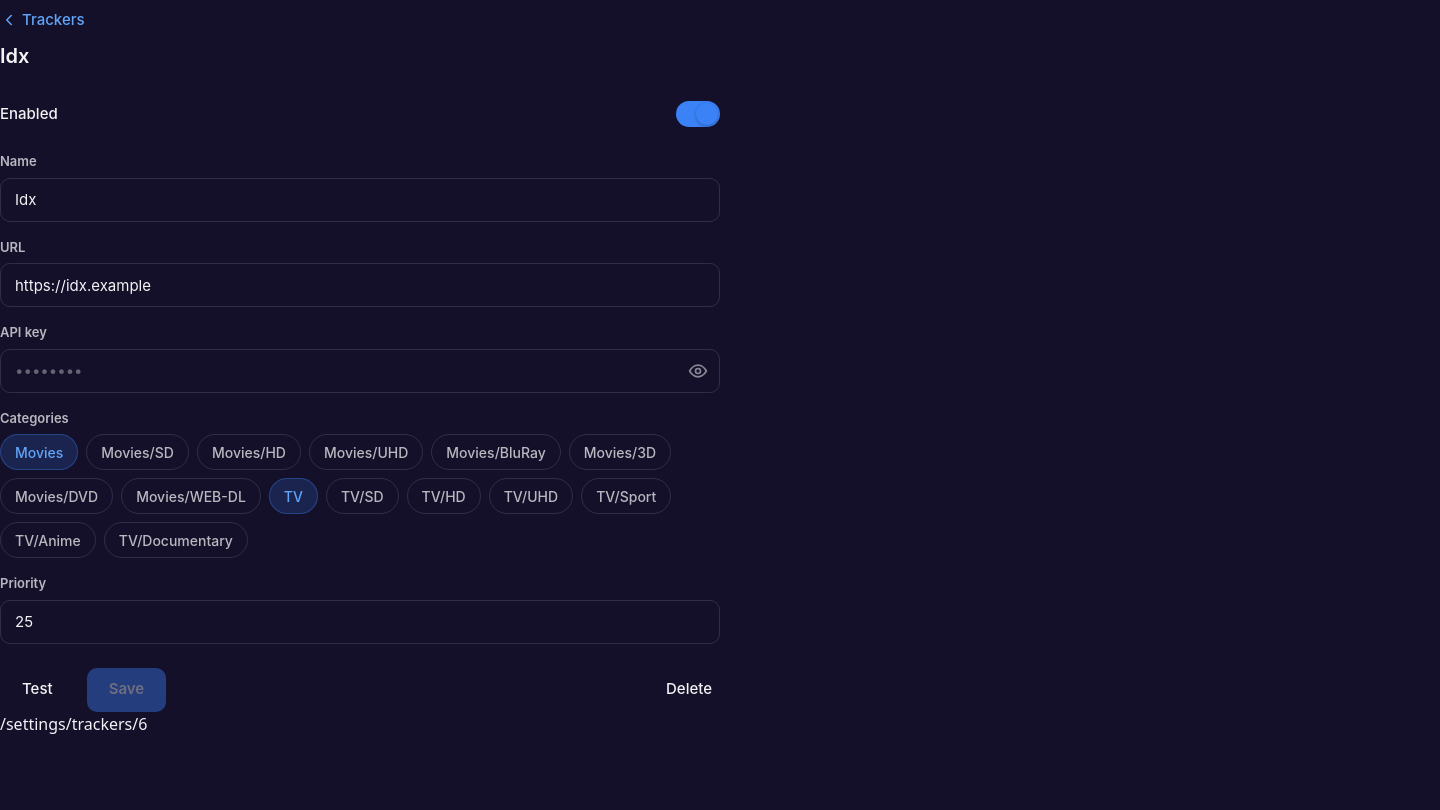
Test: Tracker form: edit and secrets › Delete asks "Delete <name>?" and returns to the list
Expected: the form with test id "tracker-form" is shown, [0,0,720,712]
Click the button "Delete": (689, 690) [658,668,720,712]
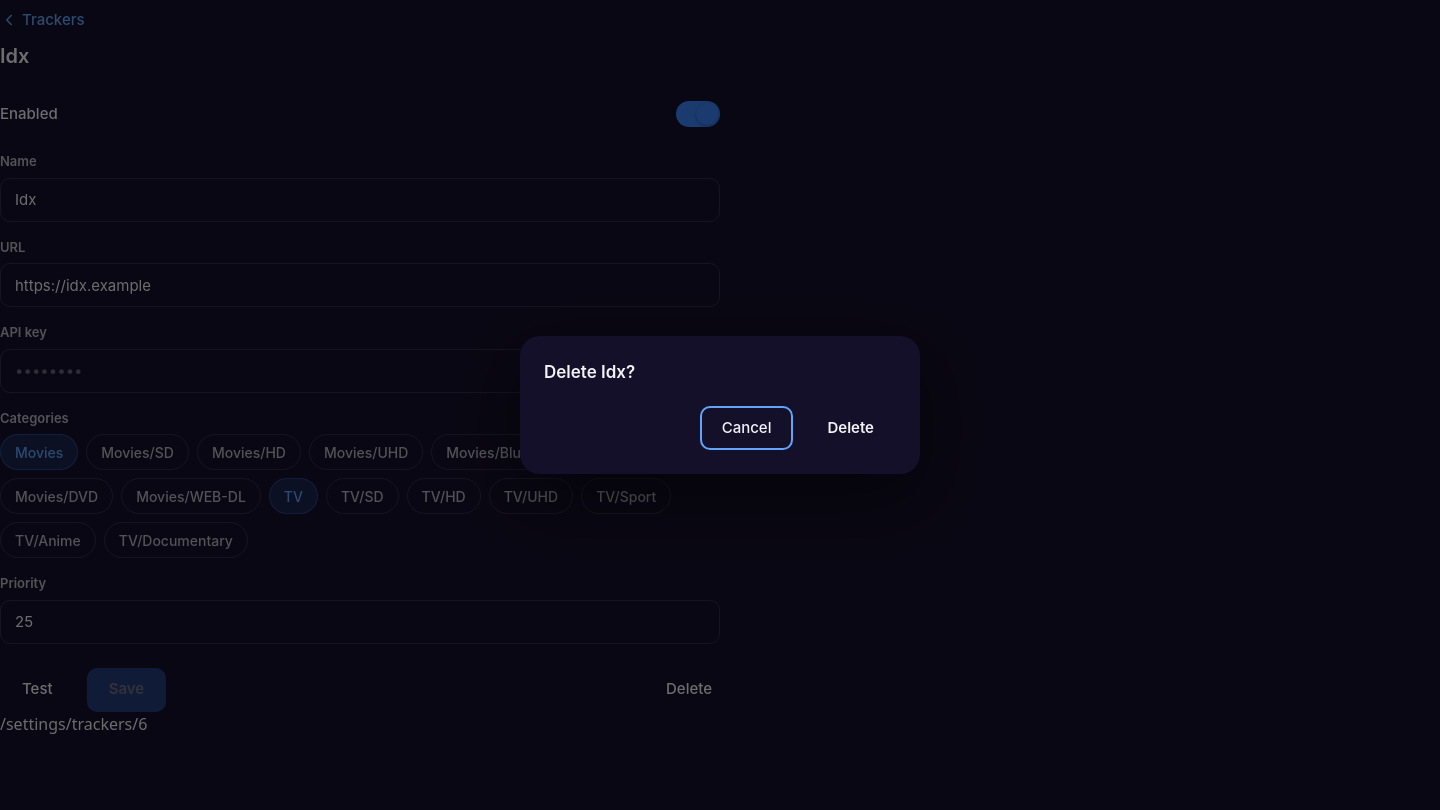
Click the button "Cancel": (747, 428) [700,406,794,450]
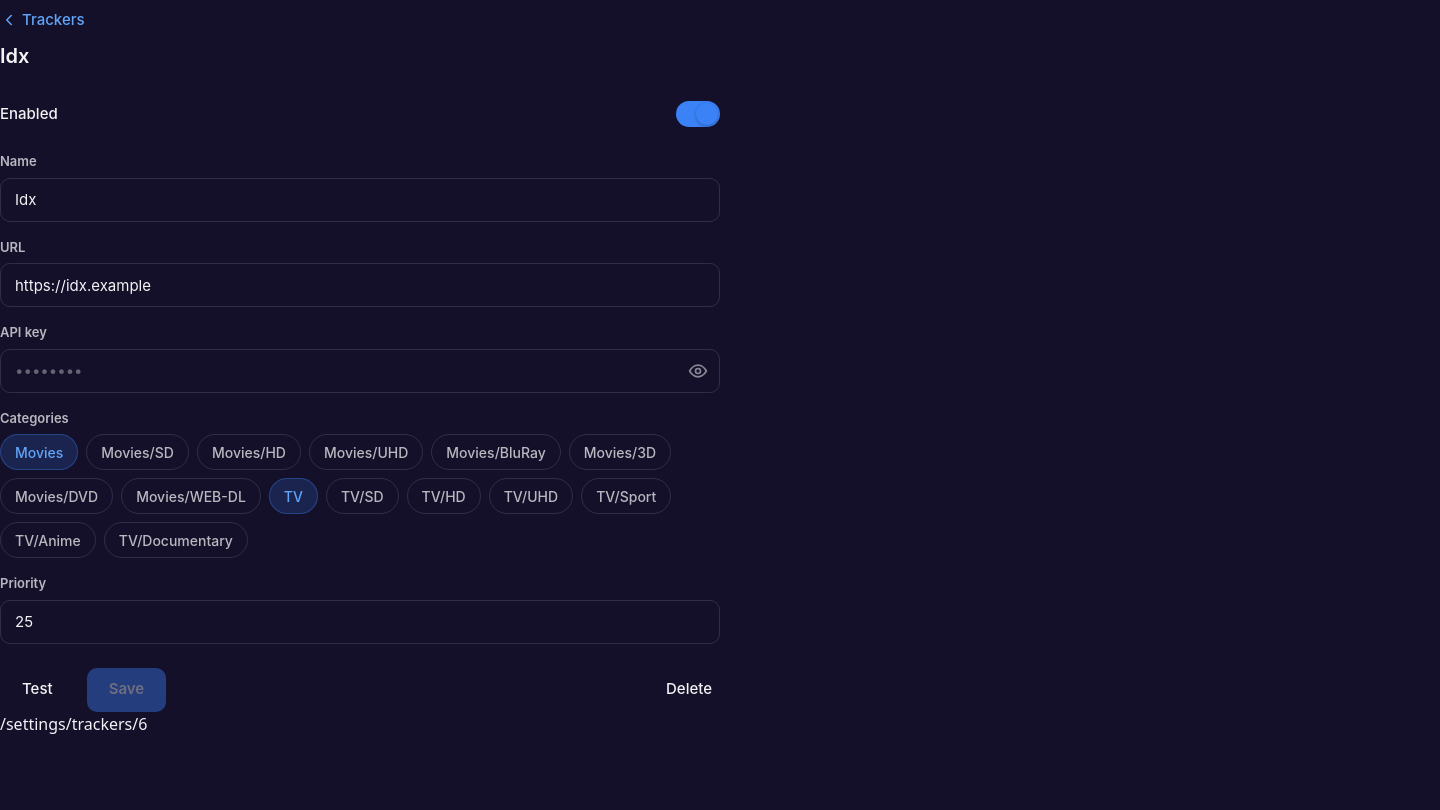
Click the button "Delete": (689, 690) [658,668,720,712]
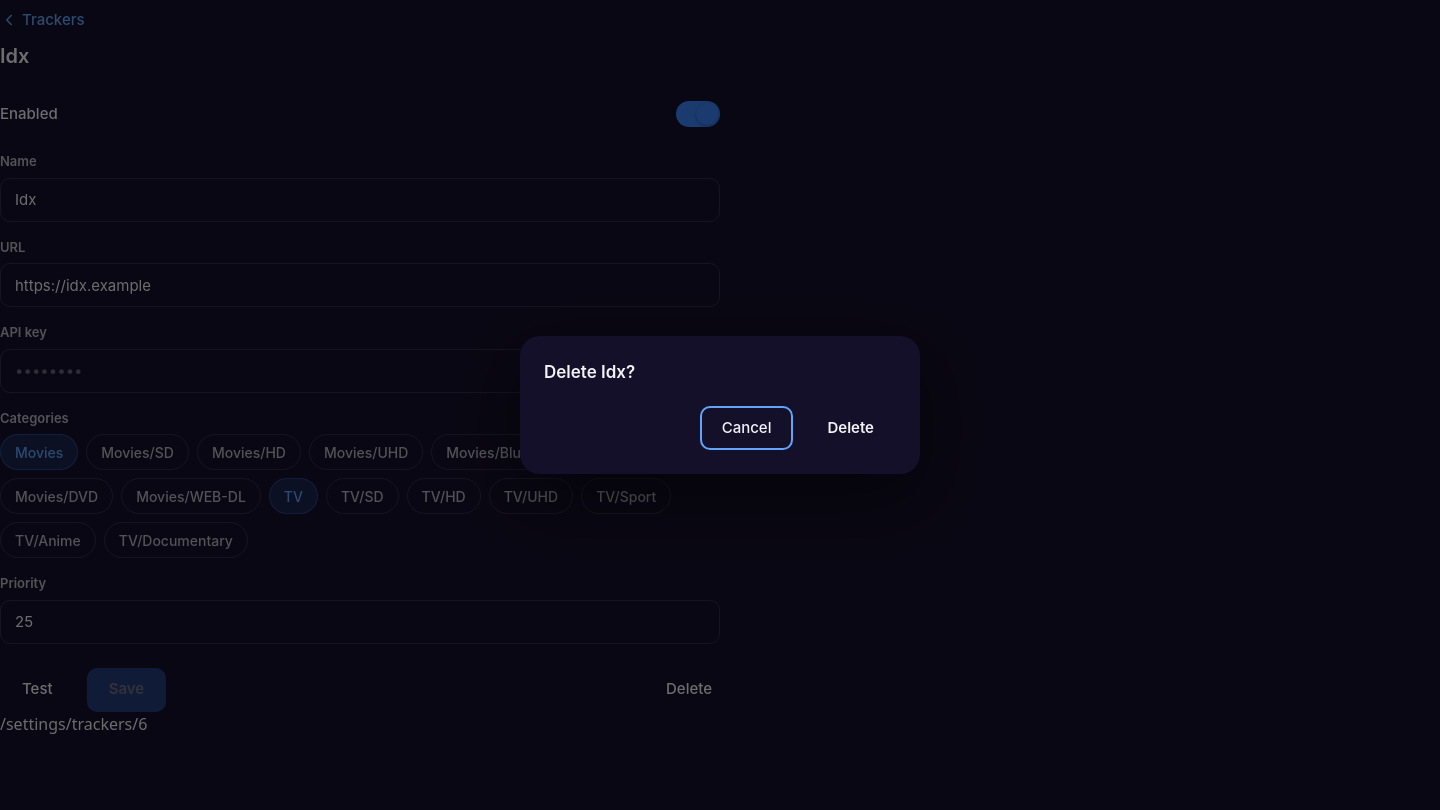
Click the button "Delete": (851, 428) [806,406,896,450]
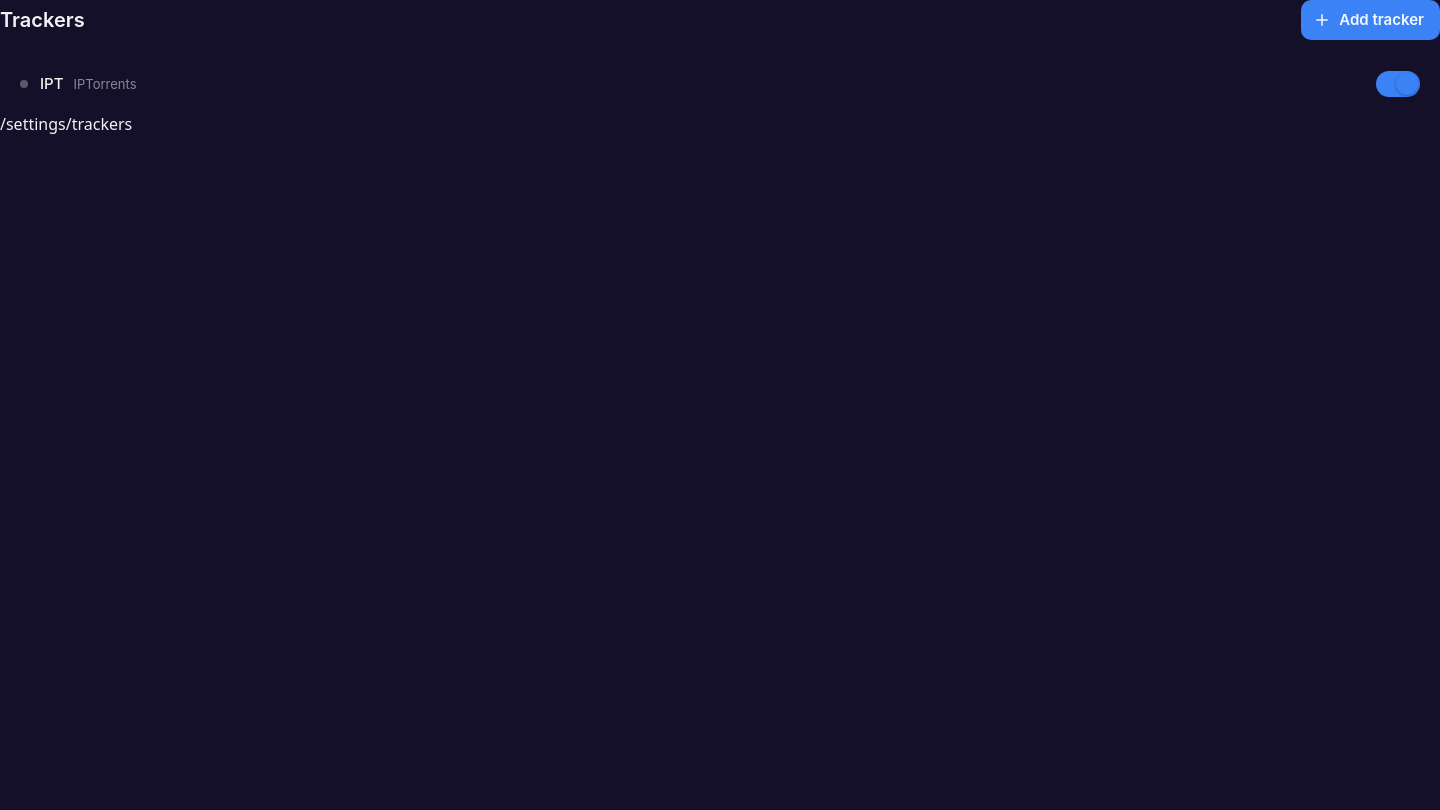
Expected: the text with test id "where" reads "/settings/trackers", [0,113,132,135]
Expected: the heading "Idx" is gone
Expected: the text "IPT" is shown, [40,73,64,95]
